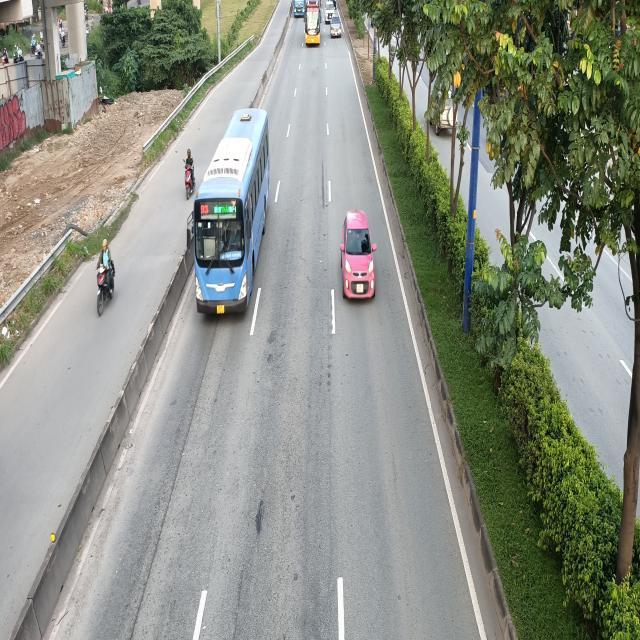car: (340, 212, 377, 304)
coach: (188, 110, 271, 313), (305, 0, 323, 46)
